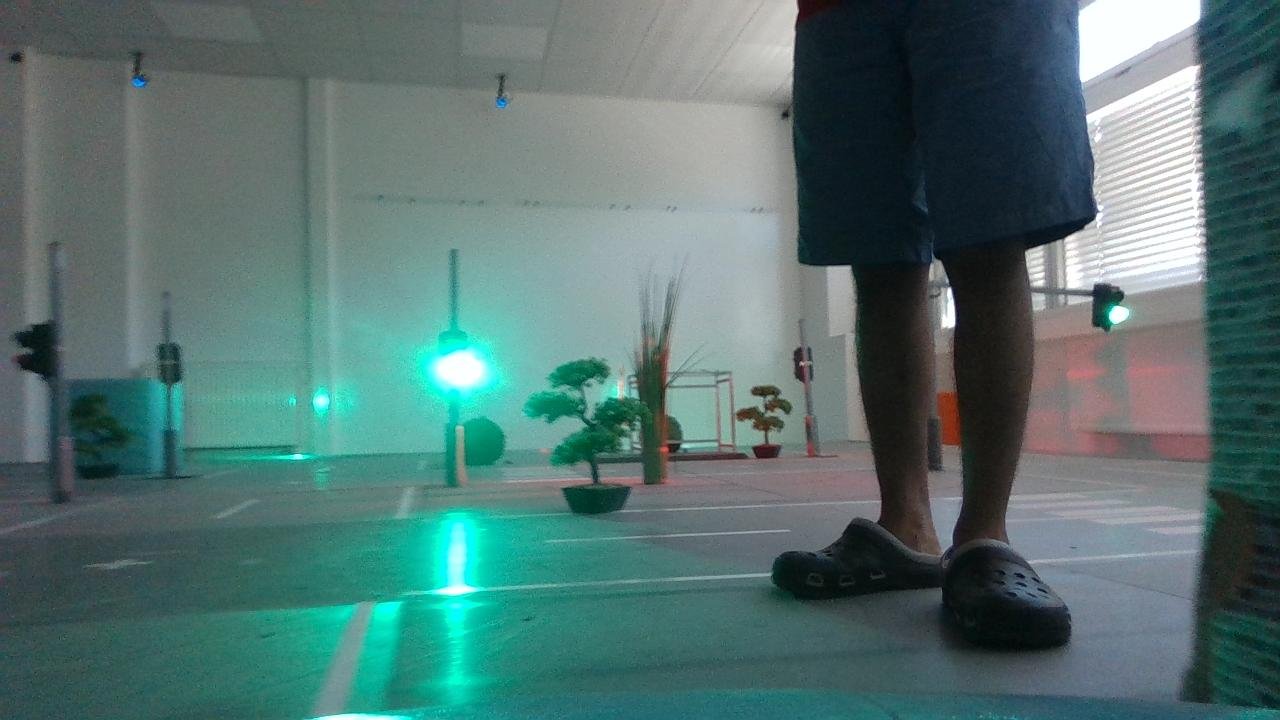traffic_light_green: (424, 324, 487, 405), (1086, 273, 1135, 348)
